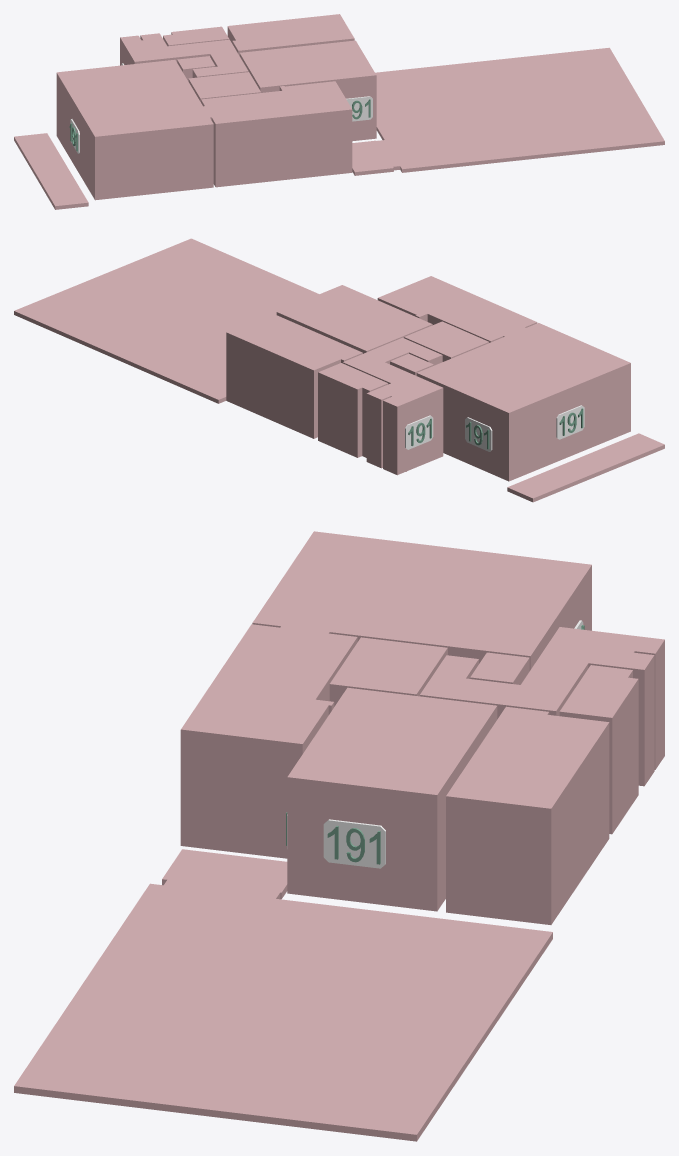
3 renders of one model, top to bottom at view 1: azimuth 30°, elevation 25°; view 2: azimuth 150°, elevation 25°; view 3: azimuth 270°, elevation 25°, orthographic. The views are drawn at different scales.
Parts seen in each view (by area): view 1: g_8, g_1, g_0, g_6, g_7, g_4, g_9, g_2, g_5, g_3, g_29; view 2: g_8, g_1, g_7, g_4, g_6, g_0, g_5, g_9, g_2, g_17, g_13, g_25 (+1 smaller); view 3: g_8, g_6, g_1, g_7, g_0, g_4, g_5, g_2, g_21, g_3.
Part boxes in pixels (bbox=[...]): g_8: bbox=[352, 47, 664, 175]; g_1: bbox=[56, 59, 213, 200]; g_0: bbox=[201, 81, 352, 187]; g_6: bbox=[239, 40, 376, 141]; g_7: bbox=[227, 14, 354, 55]; g_4: bbox=[120, 33, 248, 77]; g_9: bbox=[14, 133, 88, 209]; g_2: bbox=[188, 72, 260, 101]; g_5: bbox=[163, 26, 229, 46]; g_3: bbox=[177, 56, 215, 81]; g_29: bbox=[346, 96, 372, 121]; g_8: bbox=[14, 238, 318, 403]; g_1: bbox=[416, 323, 630, 481]; g_7: bbox=[226, 313, 362, 438]; g_4: bbox=[342, 337, 443, 475]; g_6: bbox=[276, 285, 432, 353]; g_0: bbox=[377, 276, 537, 342]; g_5: bbox=[318, 363, 388, 457]; g_9: bbox=[507, 433, 664, 502]; g_2: bbox=[404, 321, 489, 361]; g_17: bbox=[405, 415, 433, 449]; g_13: bbox=[556, 405, 584, 439]; g_25: bbox=[465, 417, 492, 451]; g_8: bbox=[14, 849, 552, 1141]; g_6: bbox=[287, 687, 497, 911]; g_1: bbox=[252, 531, 591, 670]; g_7: bbox=[446, 706, 609, 924]; g_0: bbox=[180, 624, 357, 858]; g_4: bbox=[420, 627, 664, 786]; g_5: bbox=[559, 665, 638, 834]; g_2: bbox=[329, 637, 447, 706]; g_21: bbox=[323, 819, 385, 868]; g_3: bbox=[470, 652, 529, 684].
Bounding box in the file's own units: 24.59 × 2.74 × 13.05.
